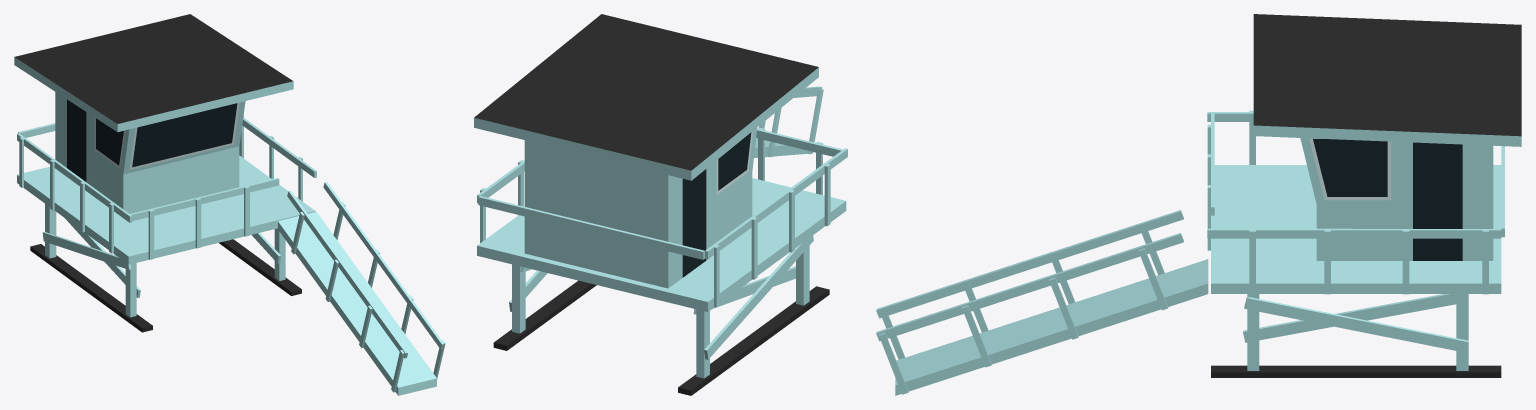
File: lifeguard.glb
The picture shows the model from 3 angles, left to right: view 1: azimuth 30°, elevation 25°; view 2: azimuth 150°, elevation 25°; view 3: azimuth 270°, elevation 25°; orthographic projection. The views are drawn at different scales.
Parts seen in each view (by area): view 1: lifeguard--base, lifeguard-bridge; view 2: lifeguard--base, lifeguard-bridge; view 3: lifeguard--base, lifeguard-bridge.
Boxes of the visible parts, bbox=[...] form: lifeguard--base: bbox=[14, 14, 316, 332]; lifeguard-bridge: bbox=[278, 181, 445, 395]; lifeguard--base: bbox=[474, 14, 847, 395]; lifeguard-bridge: bbox=[754, 86, 823, 157]; lifeguard--base: bbox=[1207, 14, 1521, 377]; lifeguard-bridge: bbox=[876, 210, 1208, 395].
Size of the model in its own units: 3.88 by 3.99 by 8.74.
1 material, 1 textured.
